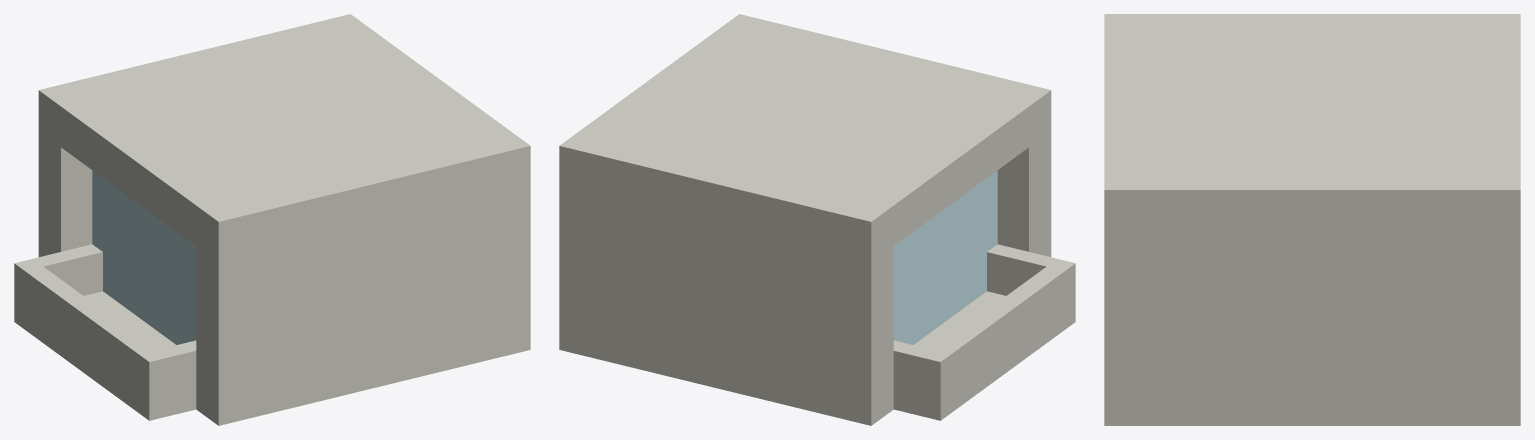
The model's file is building_041.glb.
3 renders of one model, left to right at view 1: azimuth 30°, elevation 25°; view 2: azimuth 150°, elevation 25°; view 3: azimuth 270°, elevation 25°, orthographic. The views are drawn at different scales.
Parts seen in each view (by area): view 1: building_041; view 2: building_041; view 3: building_041.
Boxes of the visible parts, x1,y1,x2,y2 form: building_041: (14, 14, 530, 425); building_041: (559, 14, 1075, 425); building_041: (1104, 14, 1520, 425).
Bounding box in the file's own units: 1.15 × 0.625 × 1.
